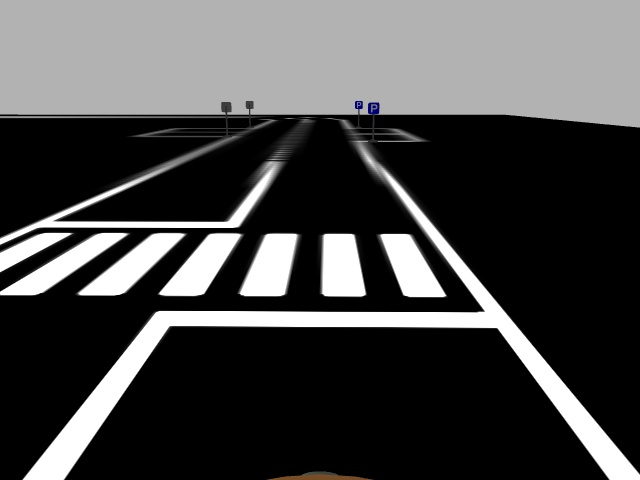parking: (367, 101, 380, 115), (354, 99, 363, 109)
